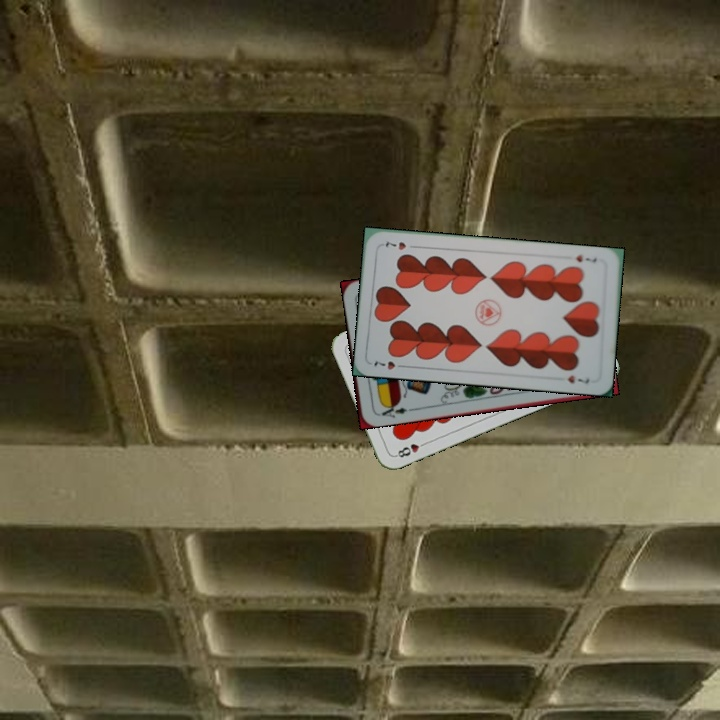EA: (374, 399, 414, 420)
H7: (370, 357, 409, 372), (572, 251, 599, 265)
H8: (391, 438, 430, 460)
